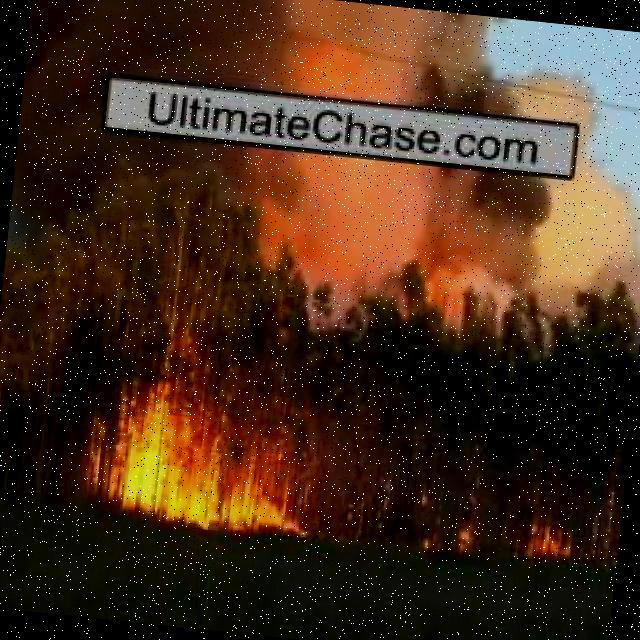Fire: (96, 398, 303, 538), (420, 510, 476, 557), (525, 526, 569, 556)
